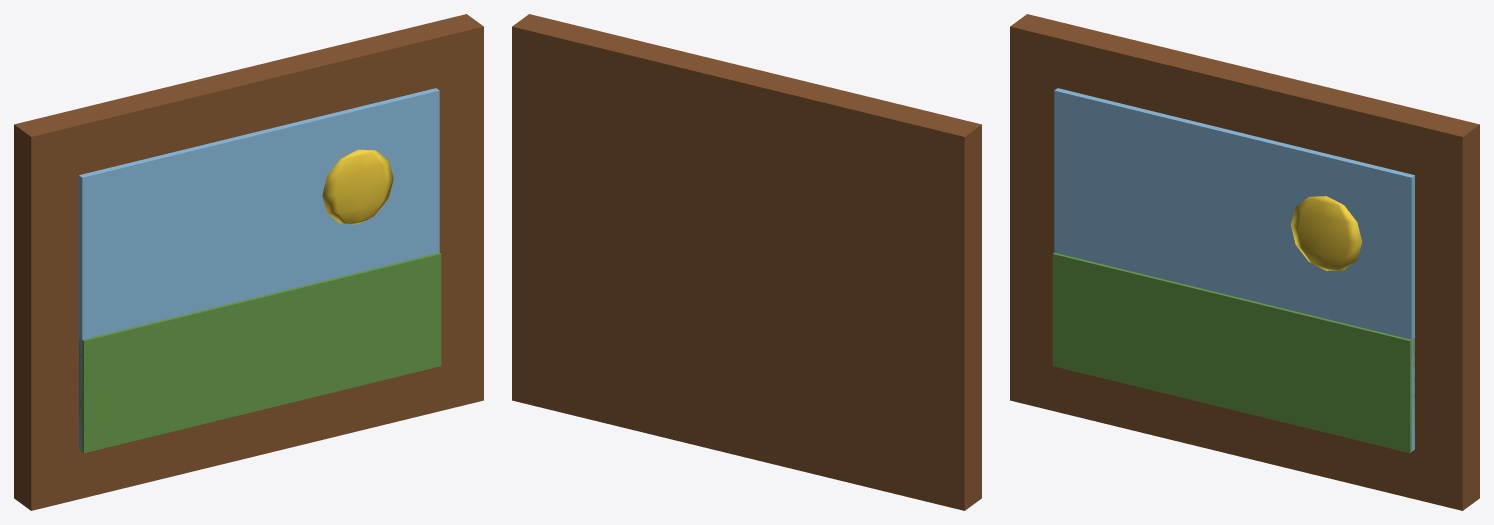
Rendered from photo_frame.glb.
3 views of the same model, side by side, from view 1: azimuth 30°, elevation 25°; view 2: azimuth 150°, elevation 25°; view 3: azimuth 330°, elevation 25° (orthographic).
Visible parts, largest first — view 1: photo_frame; view 2: photo_frame; view 3: photo_frame.
Part boxes in pixels (x1,y1,x2,y2): photo_frame: [14, 14, 483, 510]; photo_frame: [512, 14, 981, 510]; photo_frame: [1010, 14, 1479, 510].
Bounding box in the file's own units: 0.76 × 0.6 × 0.077.
